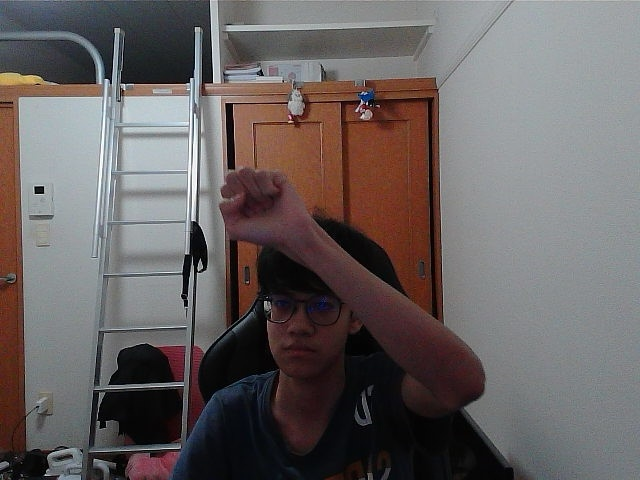closed_palm: (225, 173, 286, 238)
